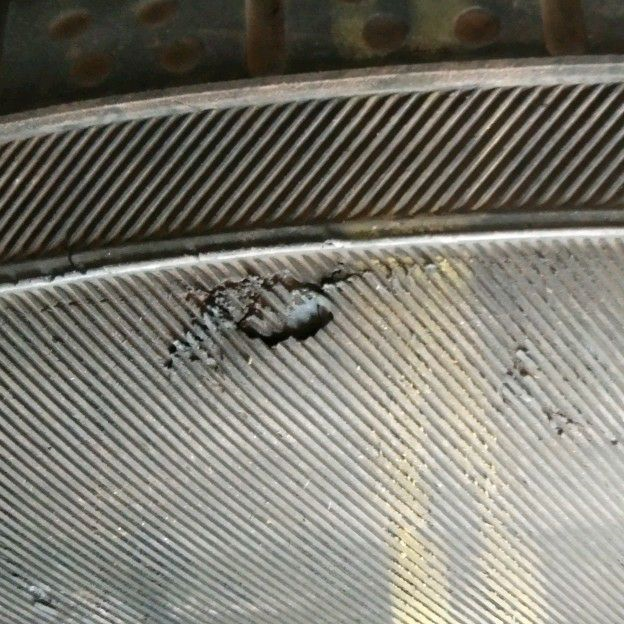cut: (182, 270, 369, 345)
